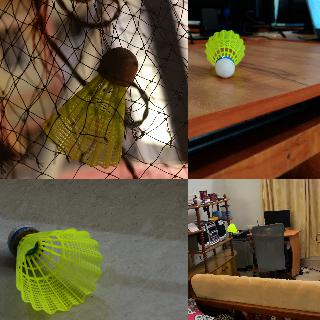shuttlecock: (43, 48, 137, 168), (7, 225, 101, 313), (205, 30, 245, 78), (228, 223, 238, 233)
